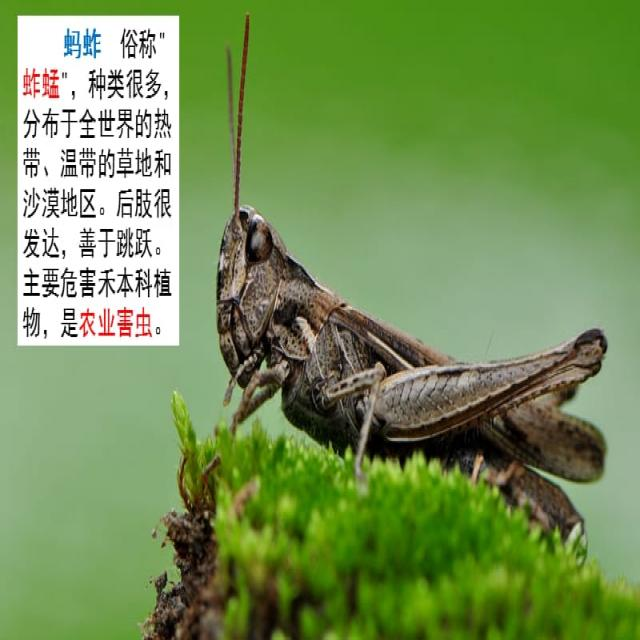ZhaMeng: (193, 166, 622, 541)
